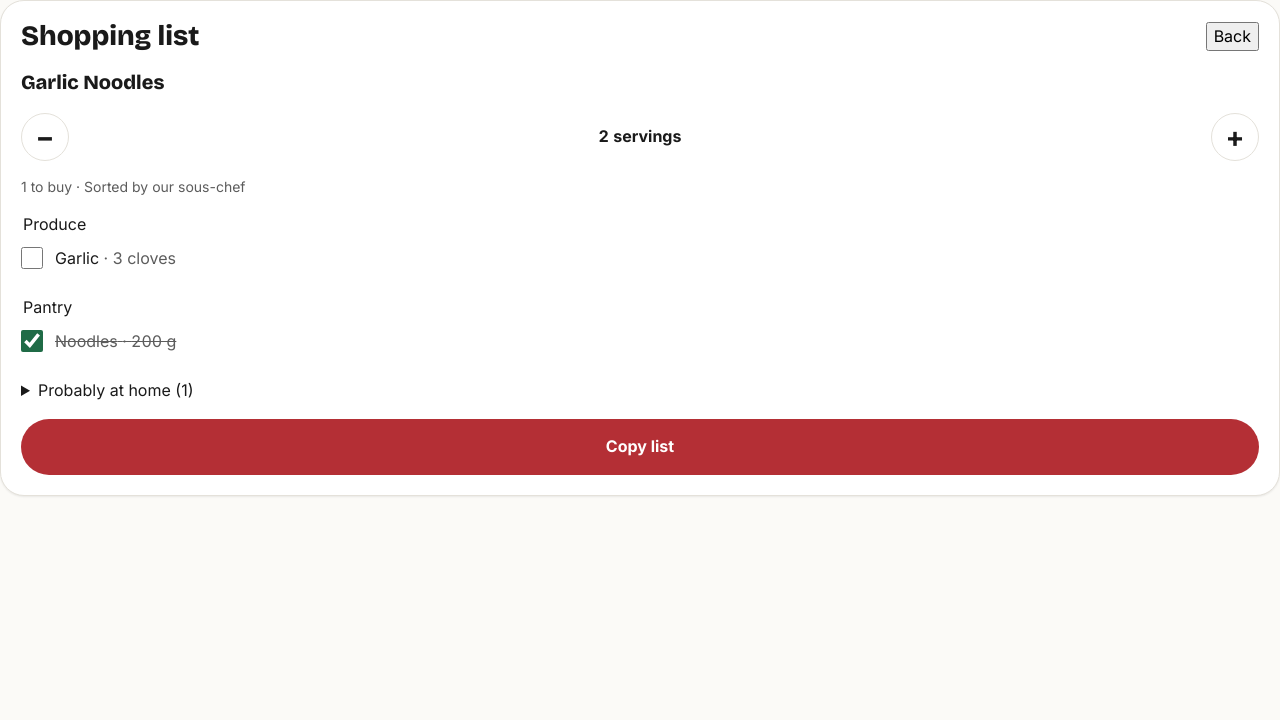
Test: ShoppingListView › counts every quick tap on the stepper, before the server catches up
Click the button named "More servings".
click(1235, 137)  # box [1211,113,1259,161]
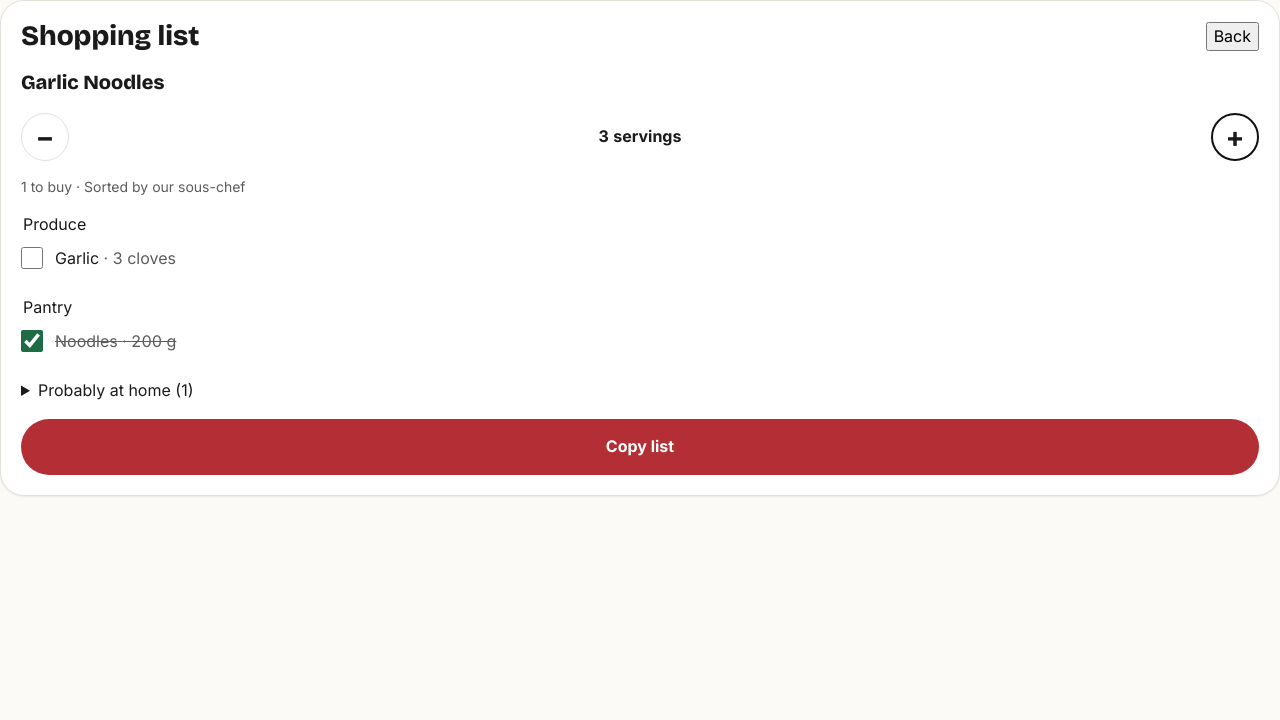
Click the button named "More servings".
click(1235, 137)  # box [1211,113,1259,161]
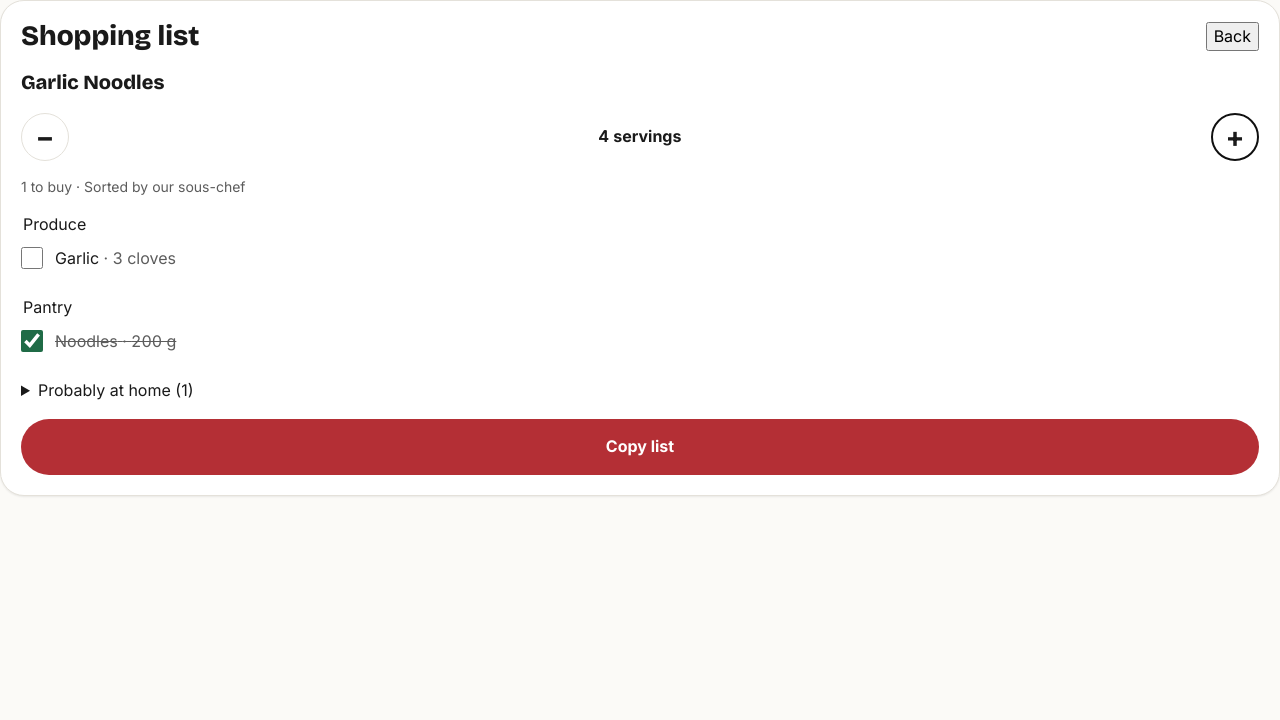
Expected: the text "4 servings" is shown, [599,126,682,146]
